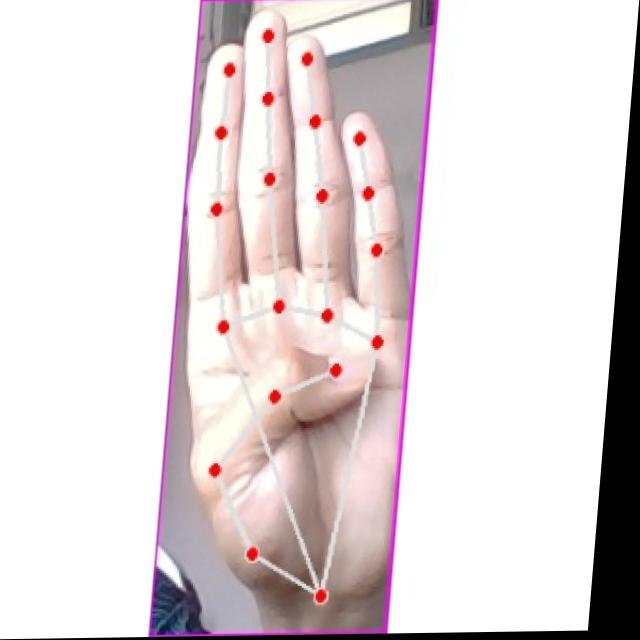B: (167, 1, 433, 616)
